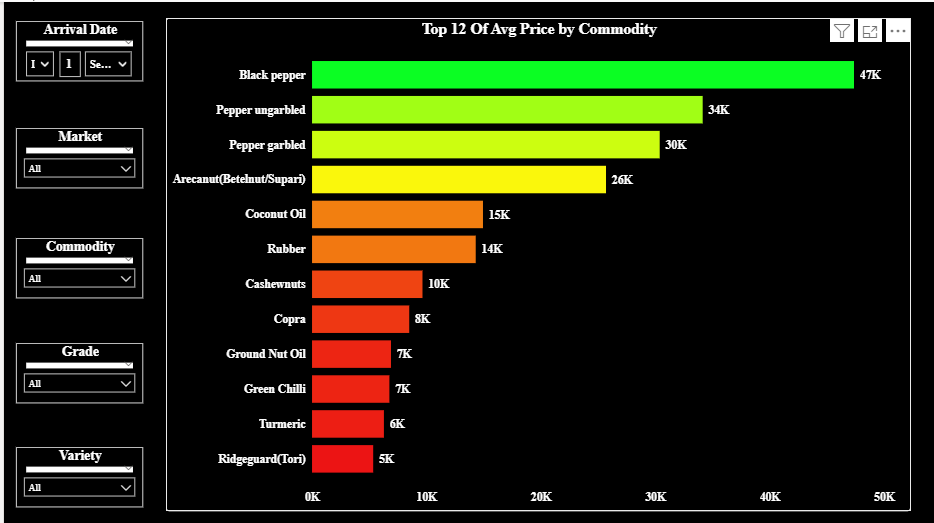

This screenshot's page, from the dashboard's own definition file:
{"tool":"powerbi","page":{"name":"Average Price by Commodity","canvas":[1280,720],"ordinal":2},"visuals":[{"type":"barChart","title":"Top 12 Of  Avg Price by Commodity","fields":{"Y":["Market Sales Data.Avg Price by Commodity"],"Category":["Market Sales Data.Commodity"]},"box":[223,22,1025.4,678.5],"z":0},{"type":"slicer","title":"Arrival Date","fields":{"Values":["Market Sales Data.Arrival_Date"]},"box":[16.5,26.2,174.8,82.6],"z":6000},{"type":"slicer","title":"Market","fields":{"Values":["Market Sales Data.Market"]},"box":[16.5,173.4,174.8,82.6],"z":7000},{"type":"slicer","title":"Commodity","fields":{"Values":["Market Sales Data.Commodity"]},"box":[16.5,324.8,174.8,82.6],"z":8000},{"type":"slicer","title":"Grade","fields":{"Values":["Market Sales Data.Grade"]},"box":[16.5,469.3,174.8,82.6],"z":9000},{"type":"slicer","title":"Variety","fields":{"Values":["Market Sales Data.Variety"]},"box":[16.5,612.5,174.8,82.6],"z":10000}]}

Visuals, with their boxes in screenshot pixels (x1, y1, x2, y2), scaled from the page's 1280x720 canvas onto the 934x523 screenshot:
"Top 12 Of  Avg Price by Commodity" barChart: [x1=163, y1=16, x2=911, y2=509]
"Arrival Date" slicer: [x1=12, y1=19, x2=140, y2=79]
"Market" slicer: [x1=12, y1=126, x2=140, y2=186]
"Commodity" slicer: [x1=12, y1=236, x2=140, y2=296]
"Grade" slicer: [x1=12, y1=341, x2=140, y2=401]
"Variety" slicer: [x1=12, y1=445, x2=140, y2=505]
